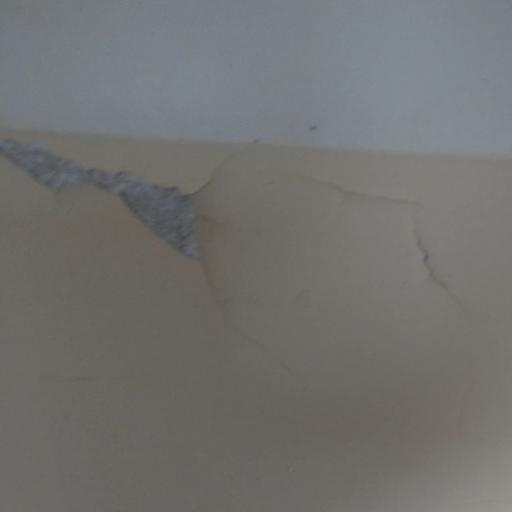peeling: (0, 96, 247, 299)
